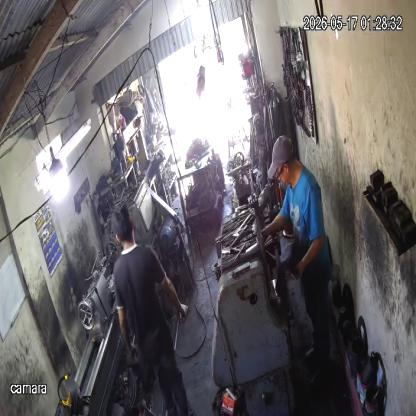lentes: (272, 161, 284, 182)
